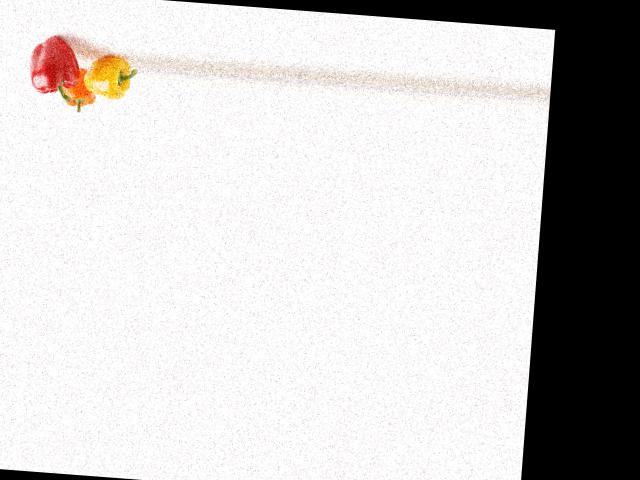bell_pepper: (25, 28, 85, 108)
